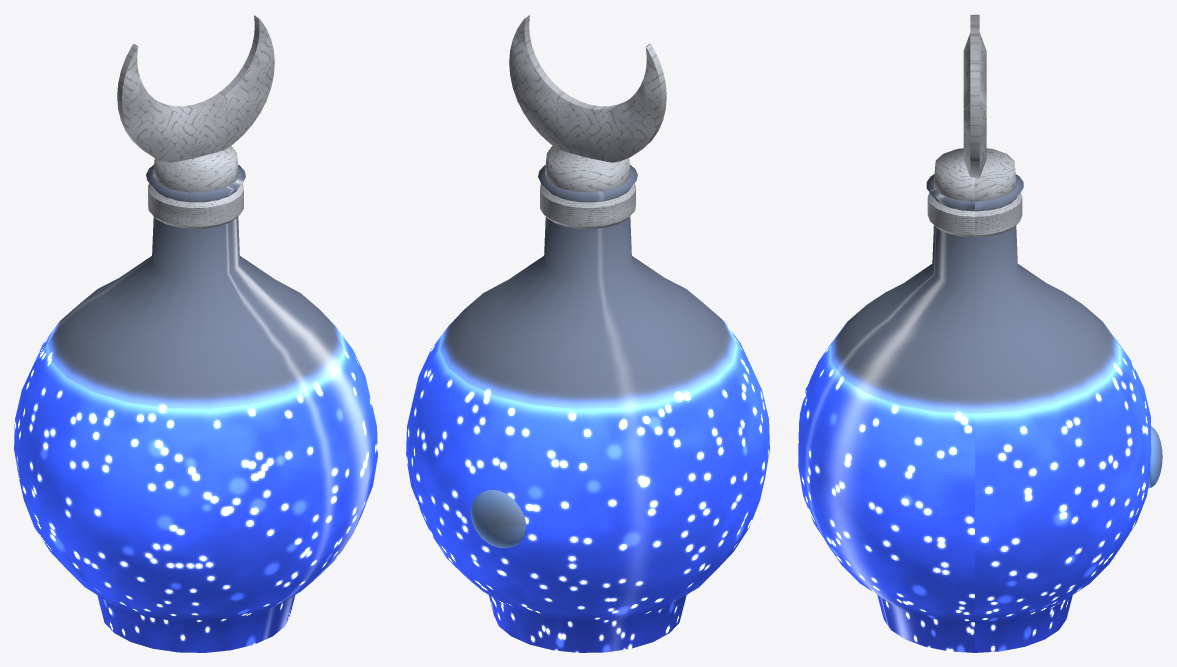
File: MoonwellElixir.glb
3 renders of one model, left to right at view 1: azimuth 30°, elevation 25°; view 2: azimuth 150°, elevation 25°; view 3: azimuth 270°, elevation 25°, orthographic. The views are drawn at different scales.
Parts seen in each view (by area): view 1: MoonwellElixir; view 2: MoonwellElixir; view 3: MoonwellElixir.
Boxes of the visible parts, bbox=[...] form: MoonwellElixir: bbox=[14, 15, 377, 652]; MoonwellElixir: bbox=[406, 15, 769, 652]; MoonwellElixir: bbox=[798, 14, 1162, 652].
Size of the model in its own units: 0.6188 by 1.09 by 0.6313.
1 material, 1 textured.
